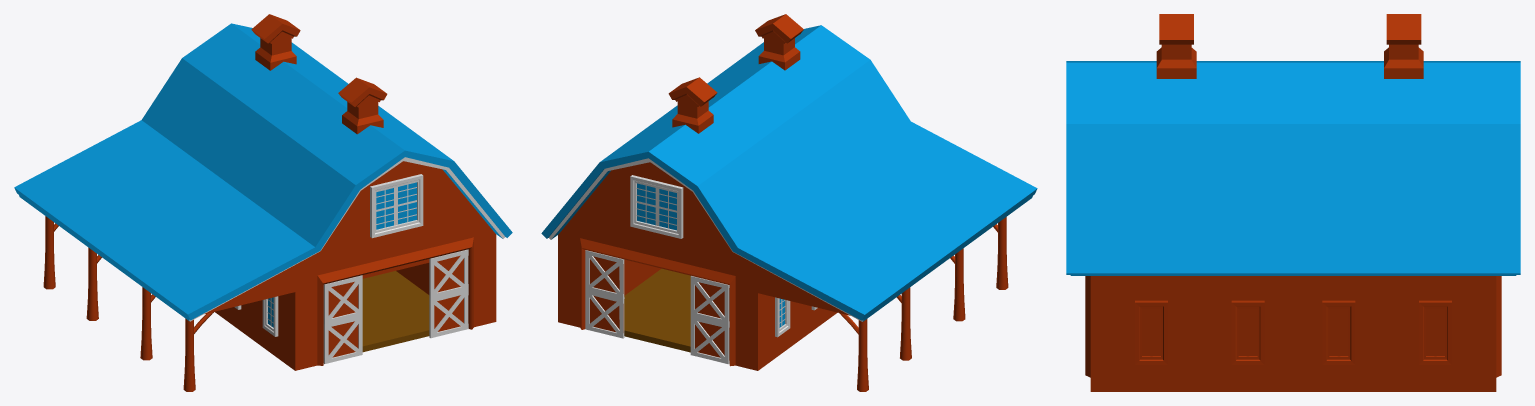
The model's file is barn.fbx.
3 renders of one model, left to right at view 1: azimuth 30°, elevation 25°; view 2: azimuth 150°, elevation 25°; view 3: azimuth 270°, elevation 25°, orthographic. The views are drawn at different scales.
Visible parts, largest first — view 1: barn; view 2: barn; view 3: barn.
Part boxes in pixels (<box>): barn: <box>14,14,512,391</box>; barn: <box>541,14,1037,391</box>; barn: <box>1066,14,1520,391</box>.
Bounding box in the file's own units: 1538 × 1087 × 1424.
